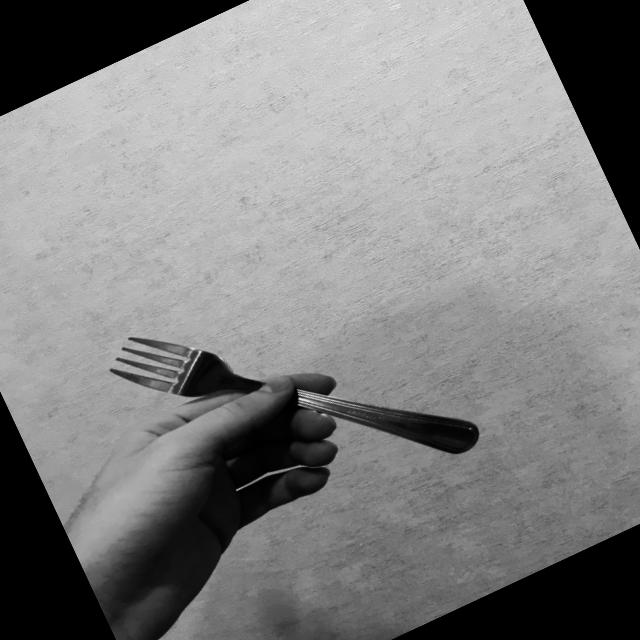fork: (98, 220, 484, 574)
